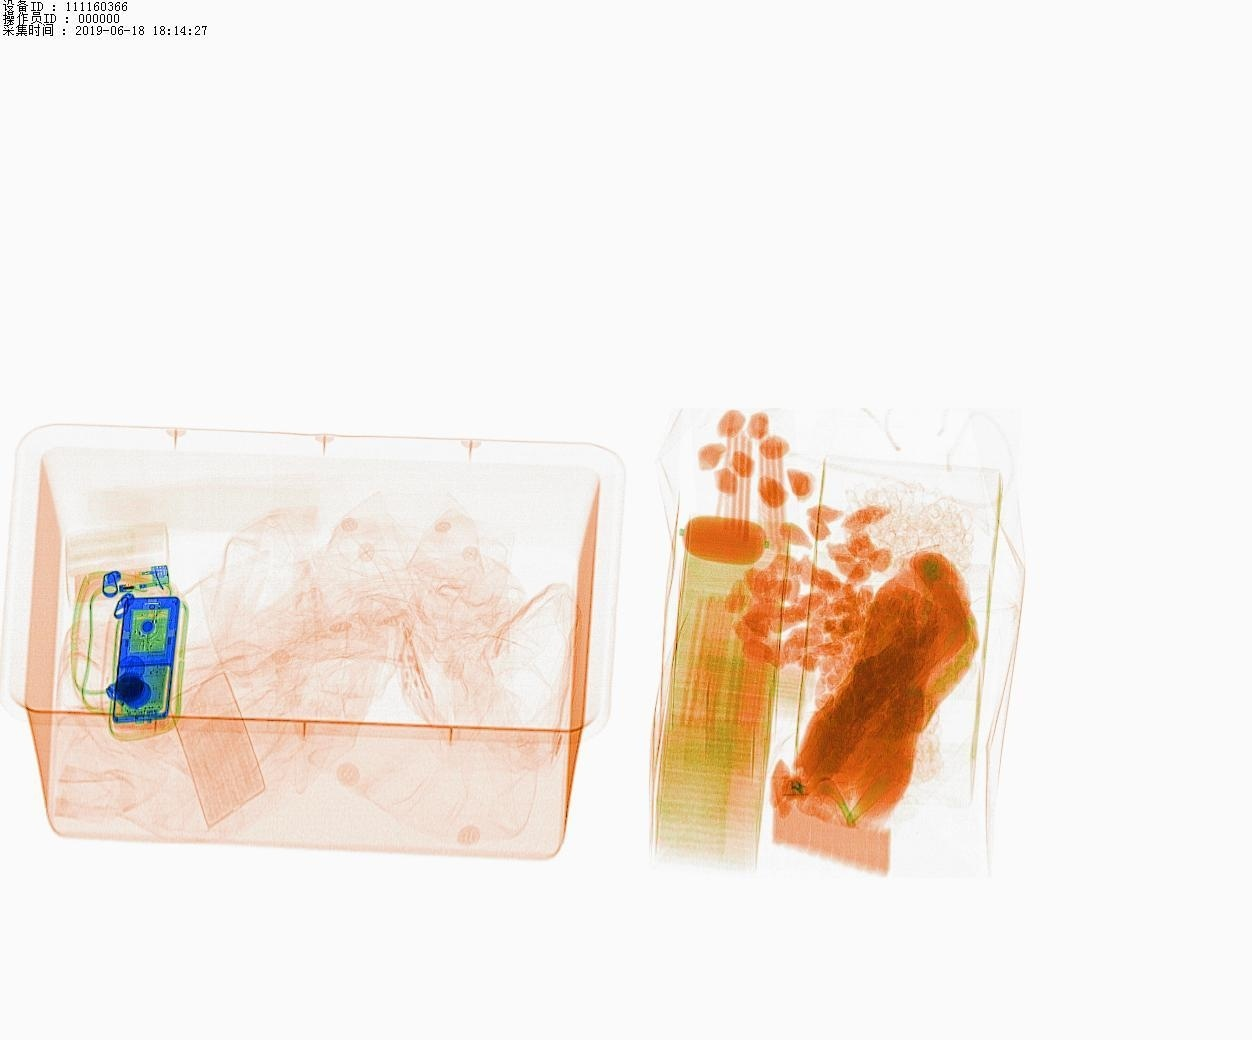NonmetallicFire: (57, 553, 198, 618)
